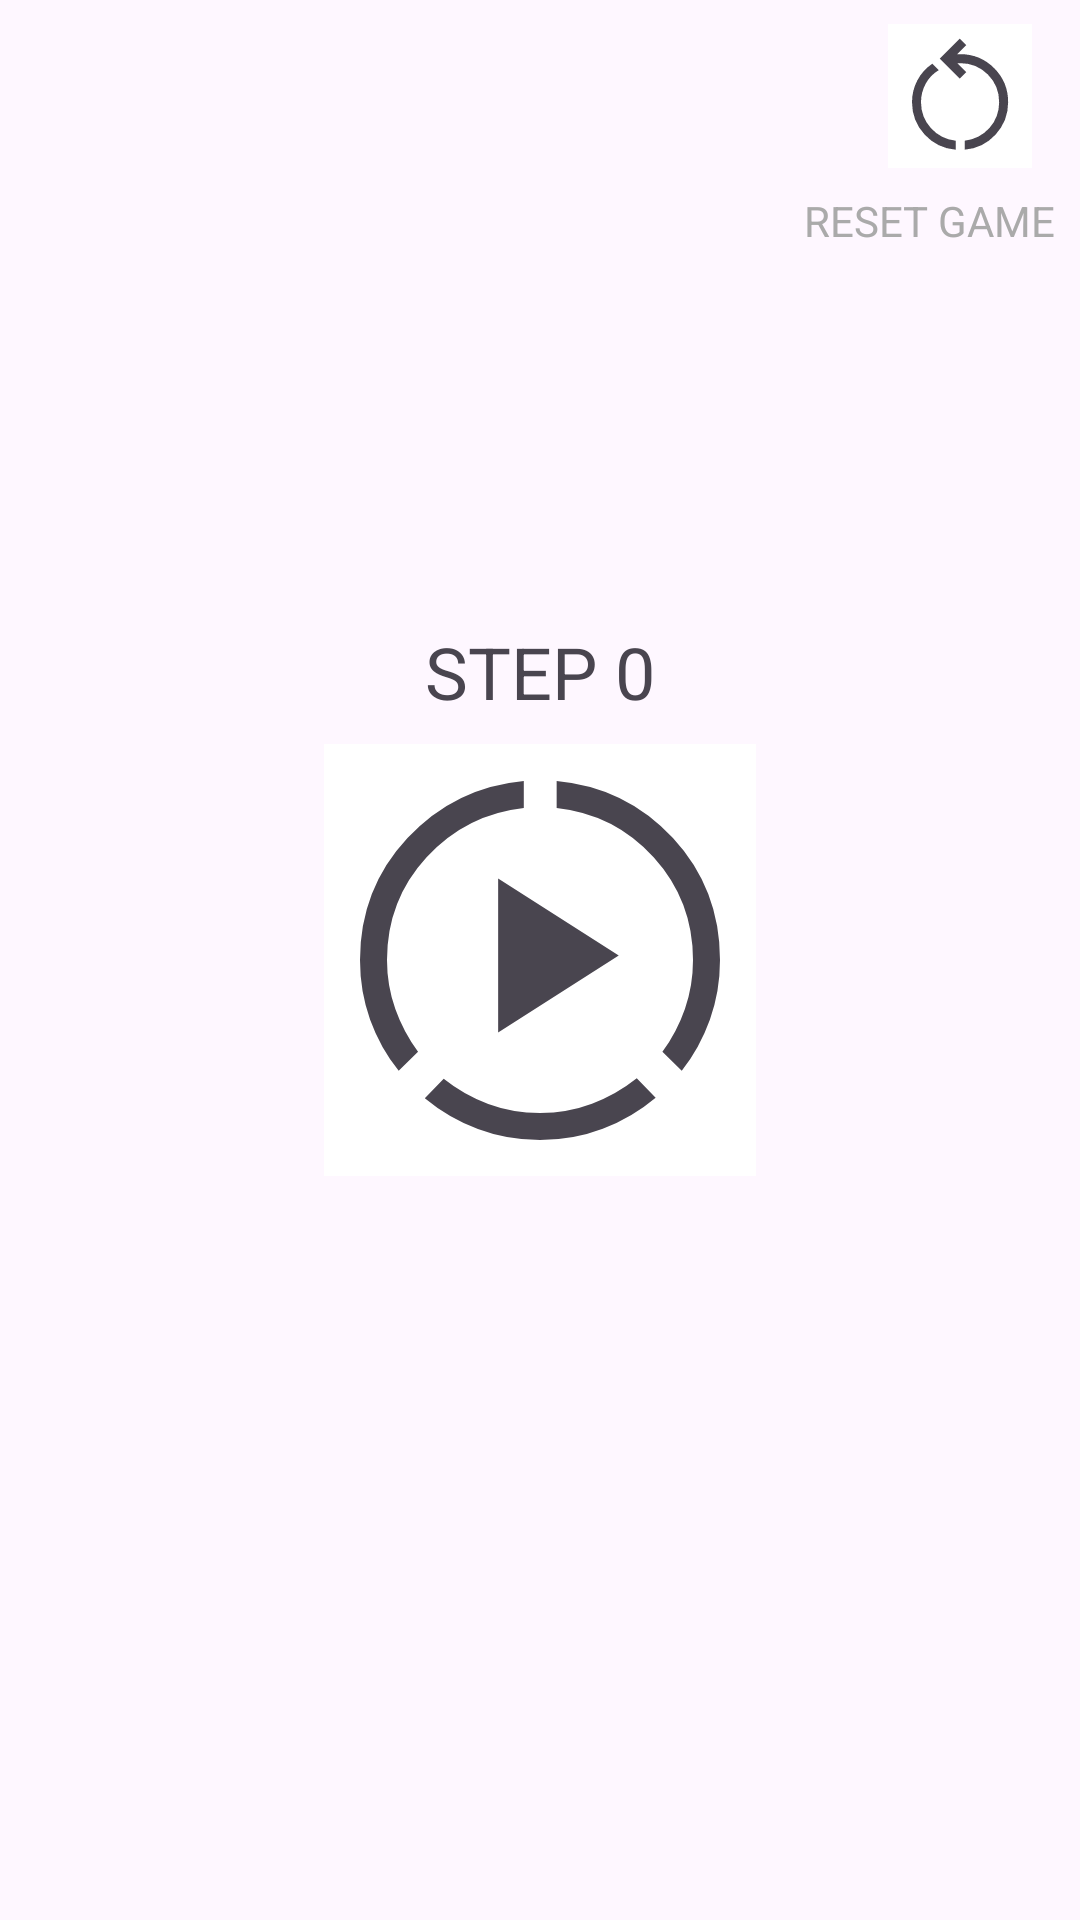

Icons on this 1080w x 1920h Android screen, each with its box as (x1, y1, x2, y2):
restart: (912, 39, 1008, 150)
